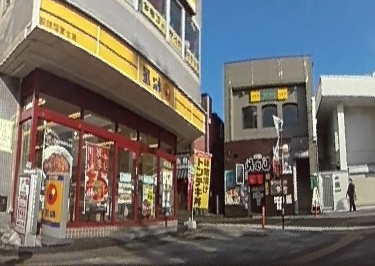person: (344, 177, 359, 209)
